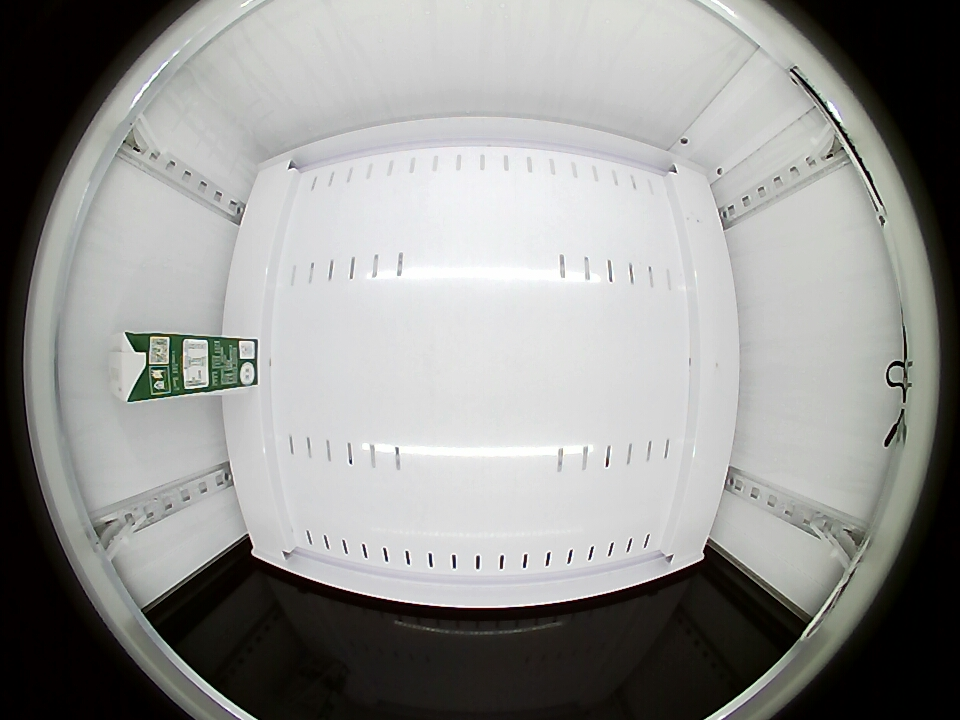jindian: (107, 331, 174, 404)
